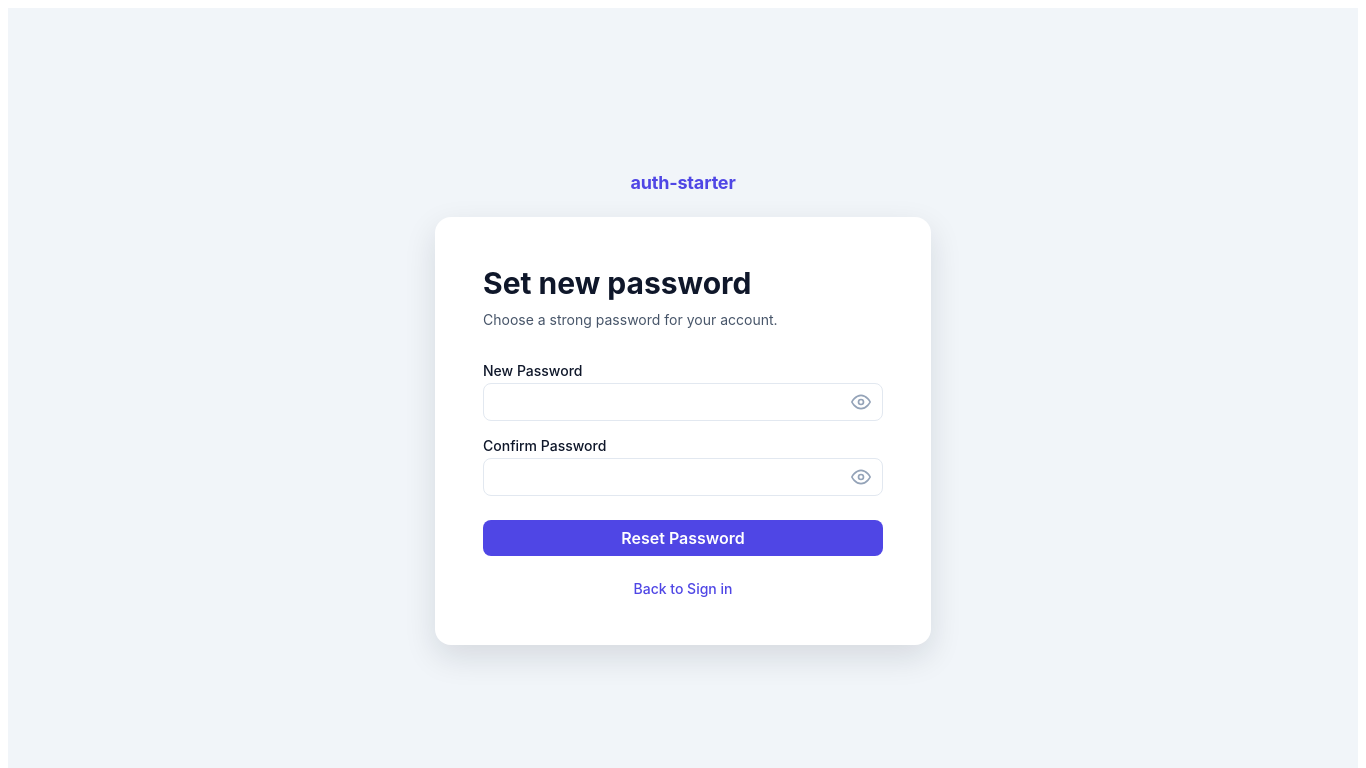
Test: Missing token › shows banner error when token is absent
Type "ValidPass1" into the password field labelled "New Password".
click(683, 402); type("ValidPass1")  # box [483,382,883,420]
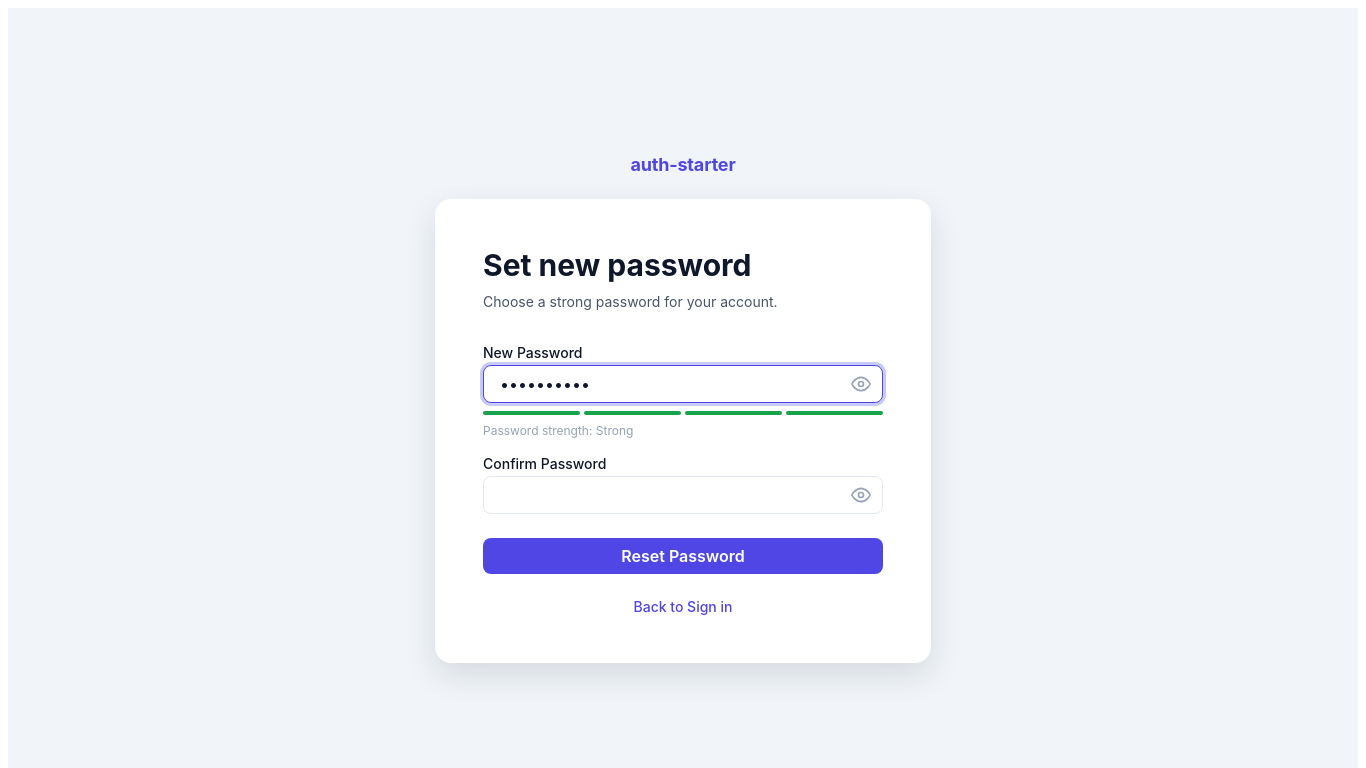
Type "ValidPass1" into the password field labelled "Confirm Password".
click(683, 494); type("ValidPass1")  # box [483,476,883,514]
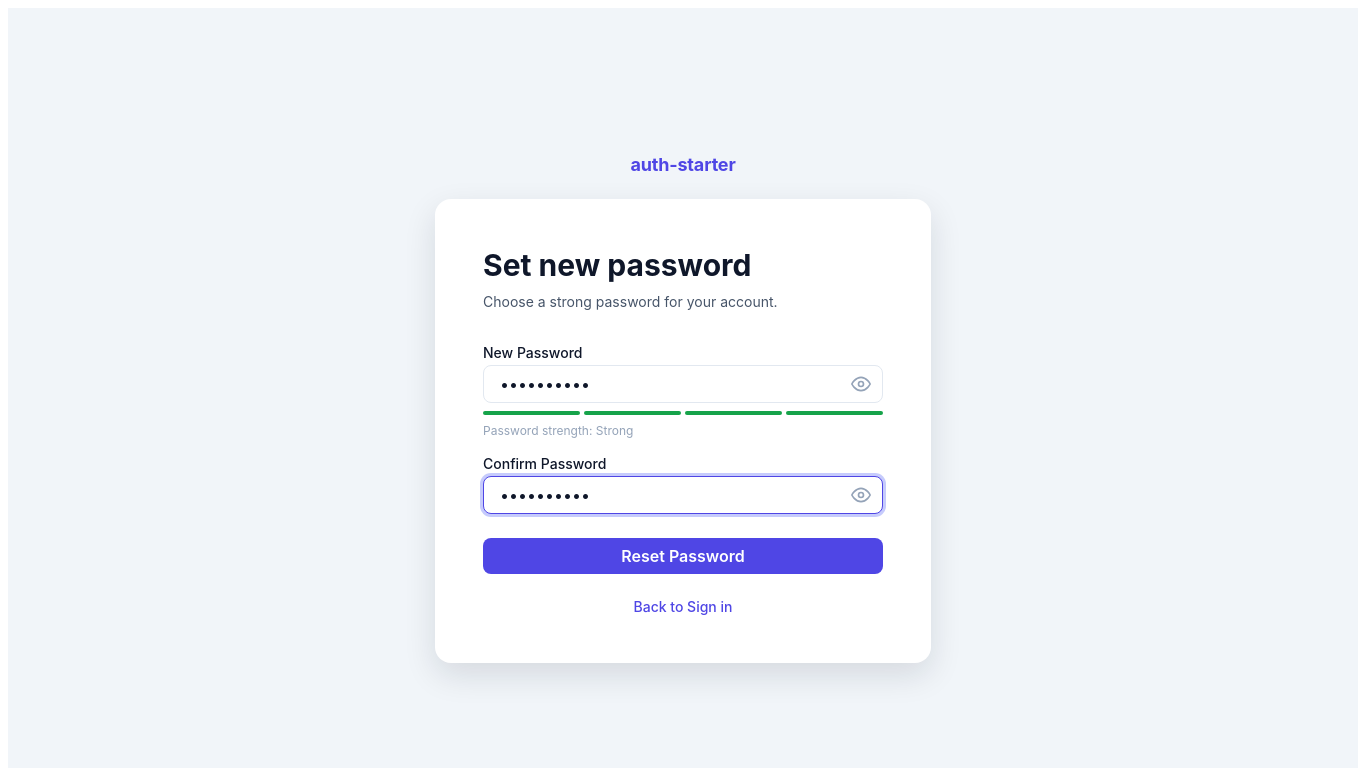
Click the button "Reset Password".
click(683, 556)  # box [483,538,883,574]
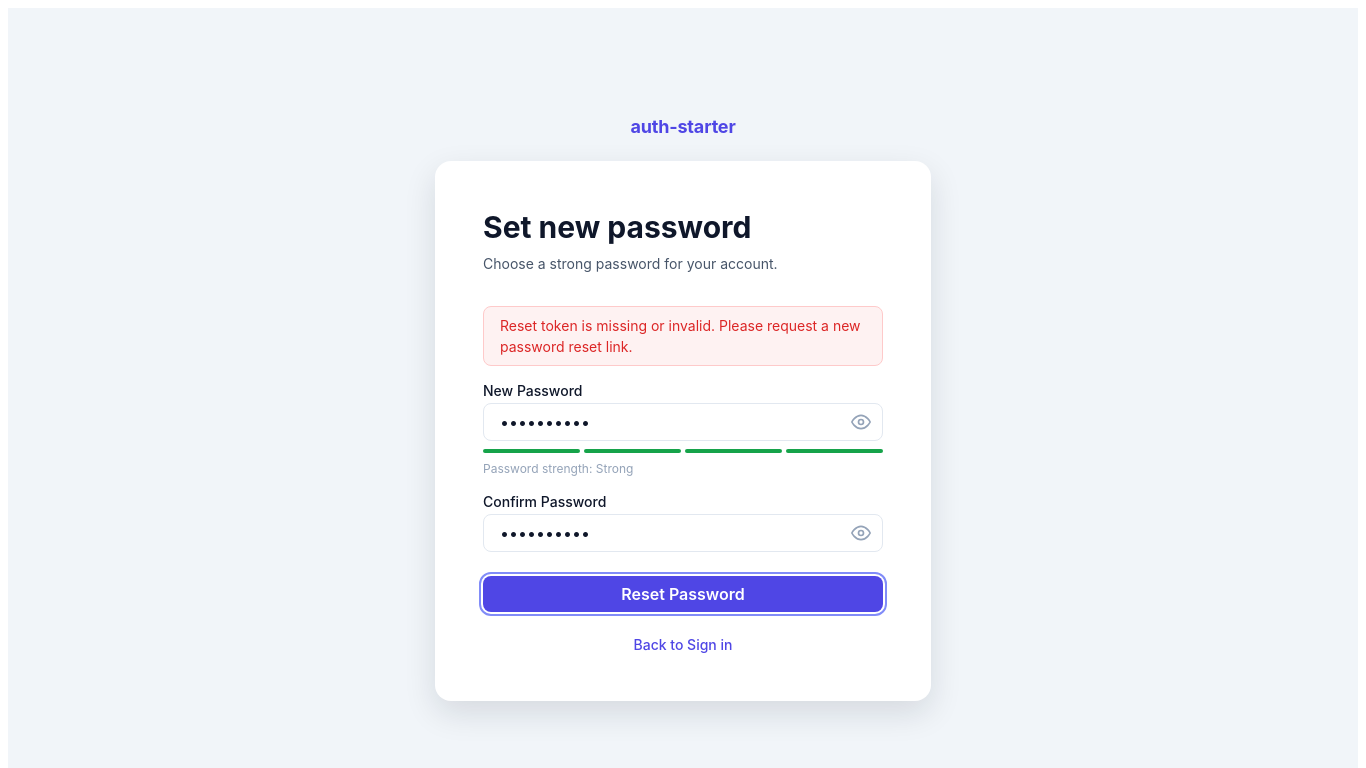
Result: the text "Reset token is missing or invalid. Please request a new password reset link." is shown at [483,306,883,366]
